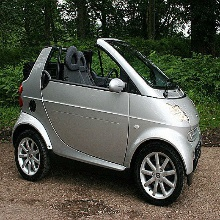no damage: (12, 37, 202, 205)
